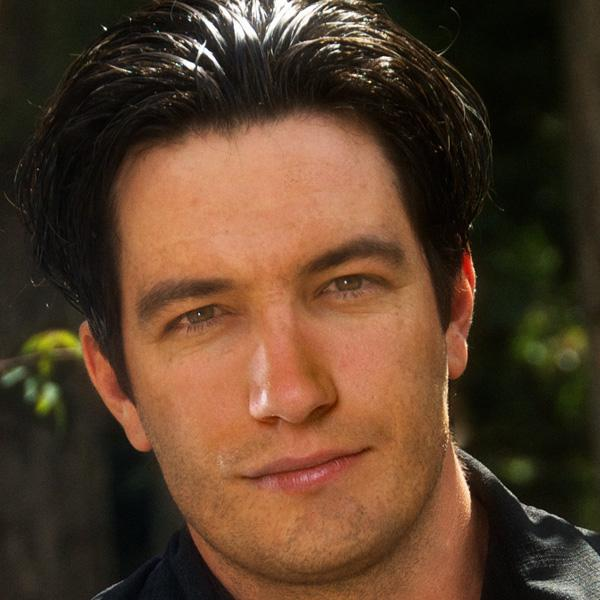Eyes: (161, 285, 248, 345), (307, 259, 392, 315)
